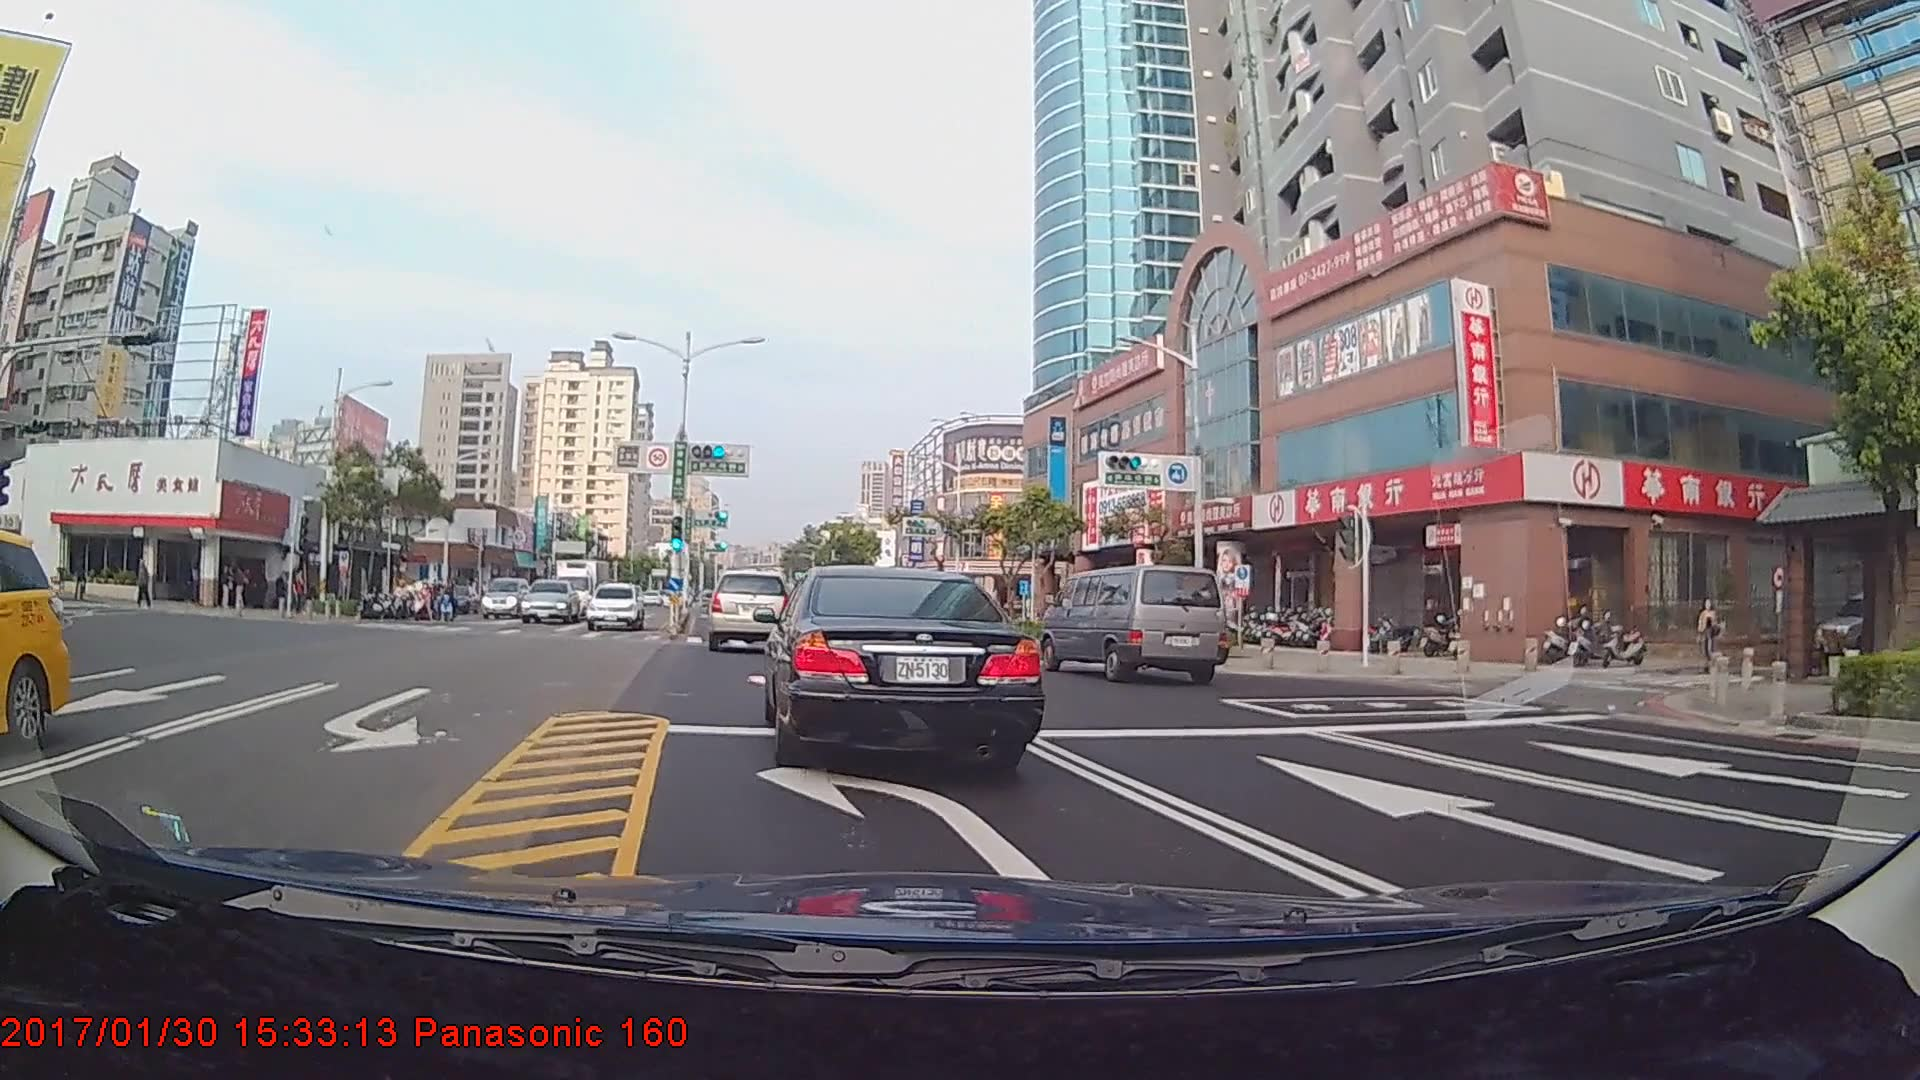pedestrian: (1696, 595, 1720, 663), (135, 559, 155, 610), (218, 562, 238, 612), (231, 566, 251, 614)
vehicle: (766, 558, 1039, 775), (1042, 562, 1229, 684), (0, 530, 71, 747), (703, 570, 790, 650), (558, 551, 614, 619), (520, 577, 584, 625), (587, 581, 644, 631), (481, 576, 535, 622)
